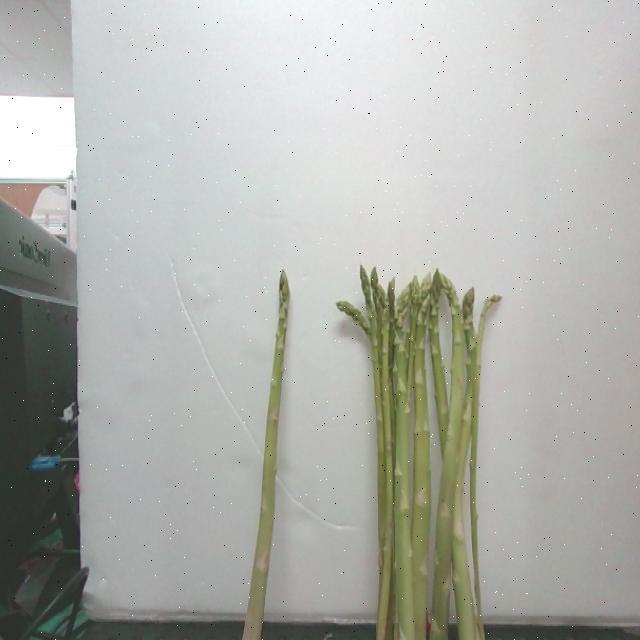aspargus: (243, 272, 293, 640)
